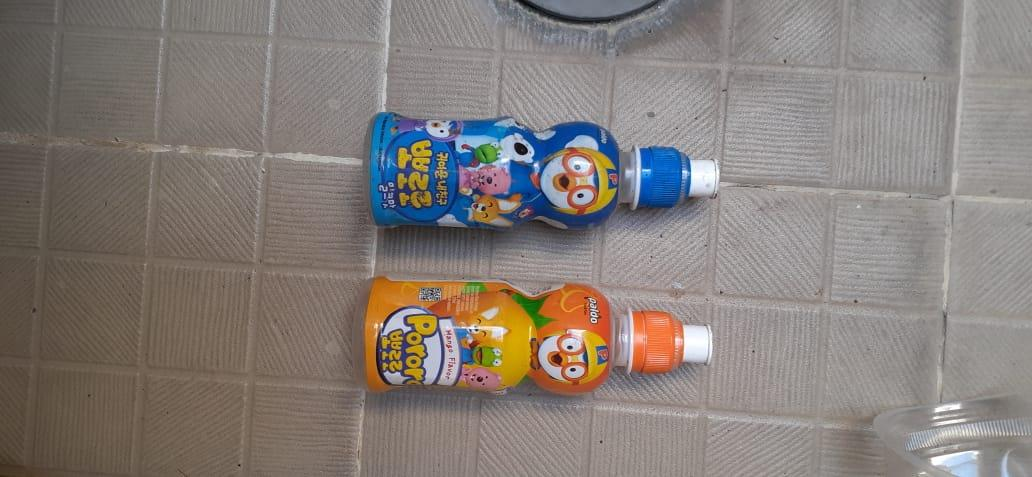Plastik: (357, 272, 714, 396), (362, 112, 724, 230)
